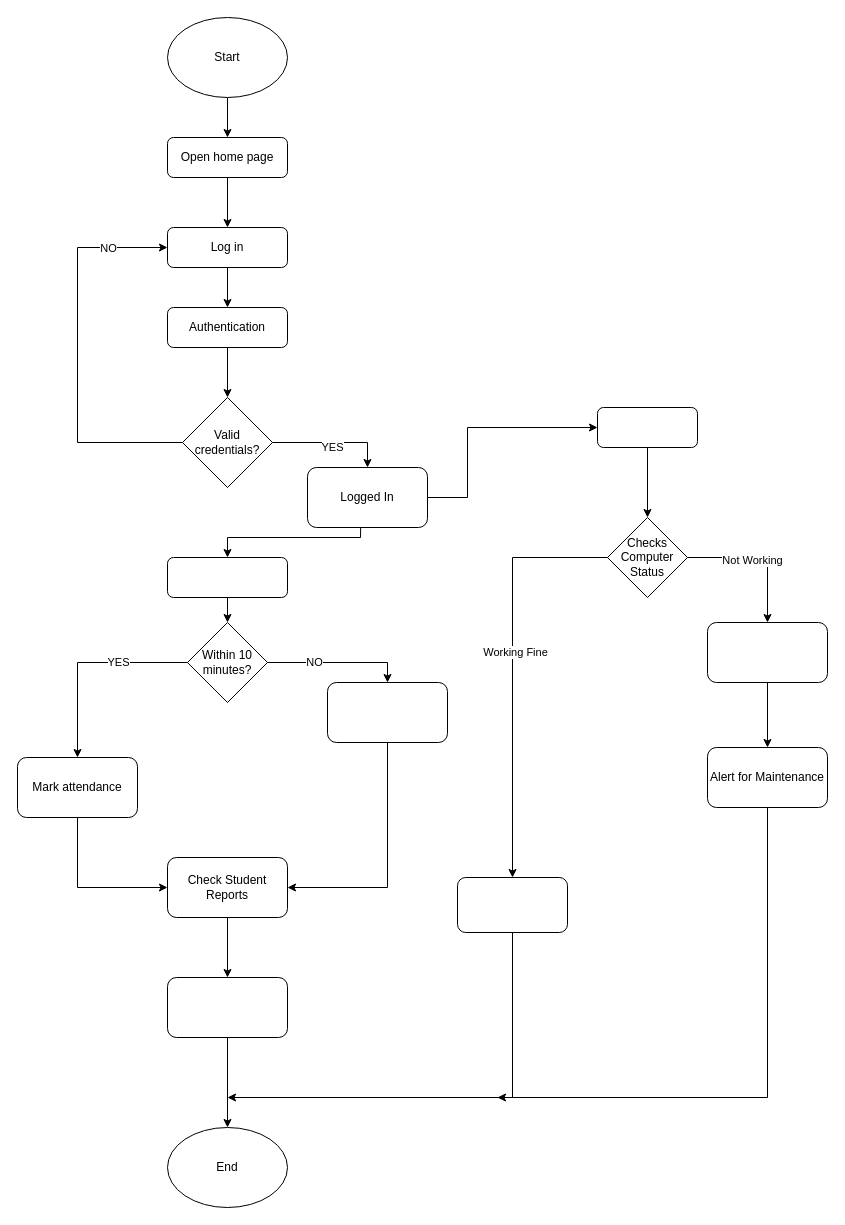
Image size: 845x1225. Some labels were removed from this diagram. The shapes that lost their labels are listed below. From the top down, each one's box as (x1, y1, x2, y2) in pixels, then its label:
(596, 406, 698, 448): Inititate Expert System
(166, 556, 288, 598): Check Attendance
(706, 622, 828, 682): Action needed
(326, 682, 448, 742): Mark Late/Absent
(456, 876, 568, 932): No action needed
(166, 976, 288, 1038): Update Records
